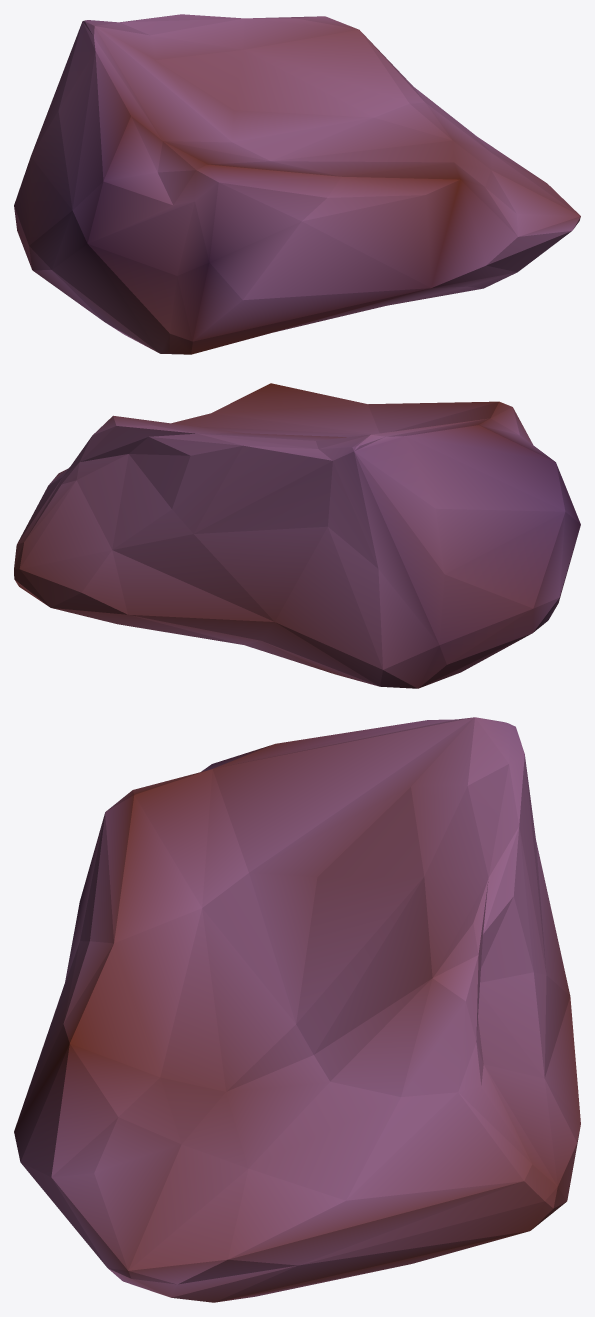
The model's file is rock3.fbx.
The picture shows the model from 3 angles, top to bottom: view 1: azimuth 30°, elevation 25°; view 2: azimuth 150°, elevation 25°; view 3: azimuth 270°, elevation 25°; orthographic projection. The views are drawn at different scales.
Visible parts, largest first — view 1: PM3D_Cube3D5; view 2: PM3D_Cube3D5; view 3: PM3D_Cube3D5.
Part boxes in pixels (box(x1,y1,x2,y2)): PM3D_Cube3D5: box(14, 14, 580, 354); PM3D_Cube3D5: box(14, 383, 580, 688); PM3D_Cube3D5: box(14, 717, 580, 1302).
Bounding box in the file's own units: 2 × 1 × 1.38.
